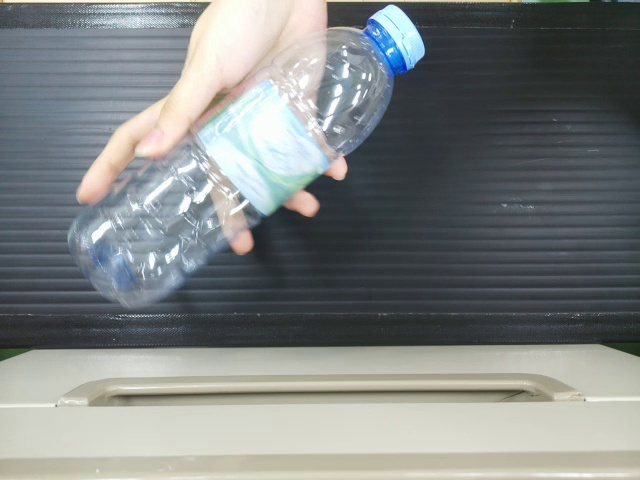bottle: (62, 18, 431, 313)
